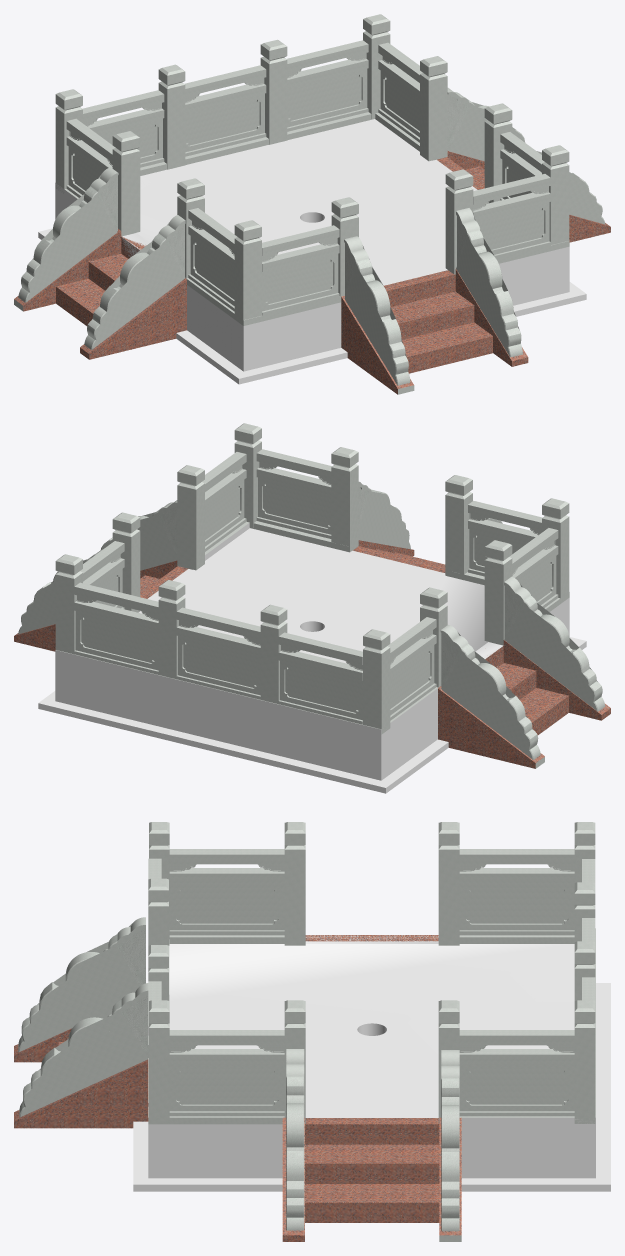
The picture shows the model from 3 angles, top to bottom: view 1: azimuth 30°, elevation 25°; view 2: azimuth 150°, elevation 25°; view 3: azimuth 270°, elevation 25°; orthographic projection. The views are drawn at different scales.
Parts seen in each view (by area): view 1: Group1, Group45, Group48, Group47, Group46, Group14, Group11, Group43, Group40, Group27, Group19, Group30 (+34 smaller); view 2: Group1, Group45, Group46, Group14, Group8, Group11, Group43, Group27, Group20, Group31, Group4, Group47 (+34 smaller); view 3: Group1, Group44, Group47, Group43, Group48, Group21, Group24, Group34, Group37, Group32, Group33, Group18 (+18 smaller).
Boxes of the visible parts, x1=… form: Group1: x1=38, y1=112, x2=586, y2=384; Group45: x1=18, y1=167, x2=185, y2=349; Group48: x1=341, y1=269, x2=528, y2=394; Group47: x1=344, y1=208, x2=522, y2=385; Group46: x1=14, y1=229, x2=188, y2=359; Group14: x1=287, y1=68, x2=368, y2=131; Group11: x1=185, y1=93, x2=266, y2=156; Group43: x1=447, y1=88, x2=605, y2=224; Group40: x1=262, y1=253, x2=339, y2=315; Group27: x1=473, y1=202, x2=550, y2=258; Group19: x1=420, y1=56, x2=447, y2=161; Group30: x1=234, y1=220, x2=261, y2=324; Group1: x1=38, y1=521, x2=586, y2=793; Group45: x1=440, y1=576, x2=605, y2=759; Group46: x1=436, y1=640, x2=610, y2=768; Group14: x1=74, y1=611, x2=158, y2=674; Group8: x1=278, y1=661, x2=362, y2=724; Group11: x1=176, y1=636, x2=260, y2=699; Group43: x1=18, y1=500, x2=177, y2=634; Group27: x1=256, y1=477, x2=331, y2=538; Group20: x1=177, y1=465, x2=204, y2=570; Group31: x1=363, y1=629, x2=390, y2=734; Group4: x1=331, y1=447, x2=358, y2=552; Group47: x1=358, y1=481, x2=502, y2=549; Group1: x1=133, y1=928, x2=610, y2=1191; Group44: x1=282, y1=1116, x2=461, y2=1241; Group47: x1=18, y1=917, x2=148, y2=1117; Group43: x1=286, y1=1049, x2=459, y2=1231; Group48: x1=14, y1=985, x2=169, y2=1128; Group21: x1=459, y1=1064, x2=574, y2=1116; Group24: x1=169, y1=1064, x2=284, y2=1116; Group34: x1=459, y1=883, x2=574, y2=935; Group37: x1=169, y1=883, x2=284, y2=935; Group32: x1=438, y1=822, x2=459, y2=945; Group33: x1=284, y1=822, x2=305, y2=945; Group18: x1=574, y1=1000, x2=595, y2=1123.
Bounding box in the file's own units: 4800 × 1447 × 4000.
Materials: 3 (2 with a texture image).
